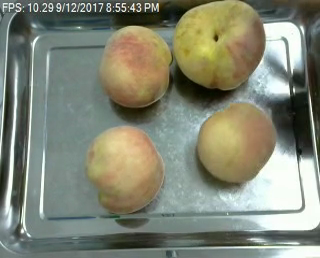Peach: (174, 0, 265, 89), (85, 124, 164, 214), (197, 103, 276, 182), (99, 24, 172, 108)
